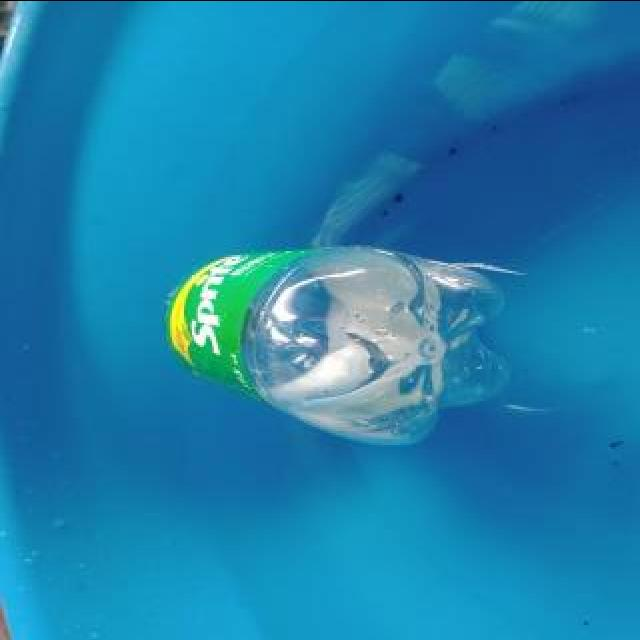Bottle: (153, 232, 517, 453)
